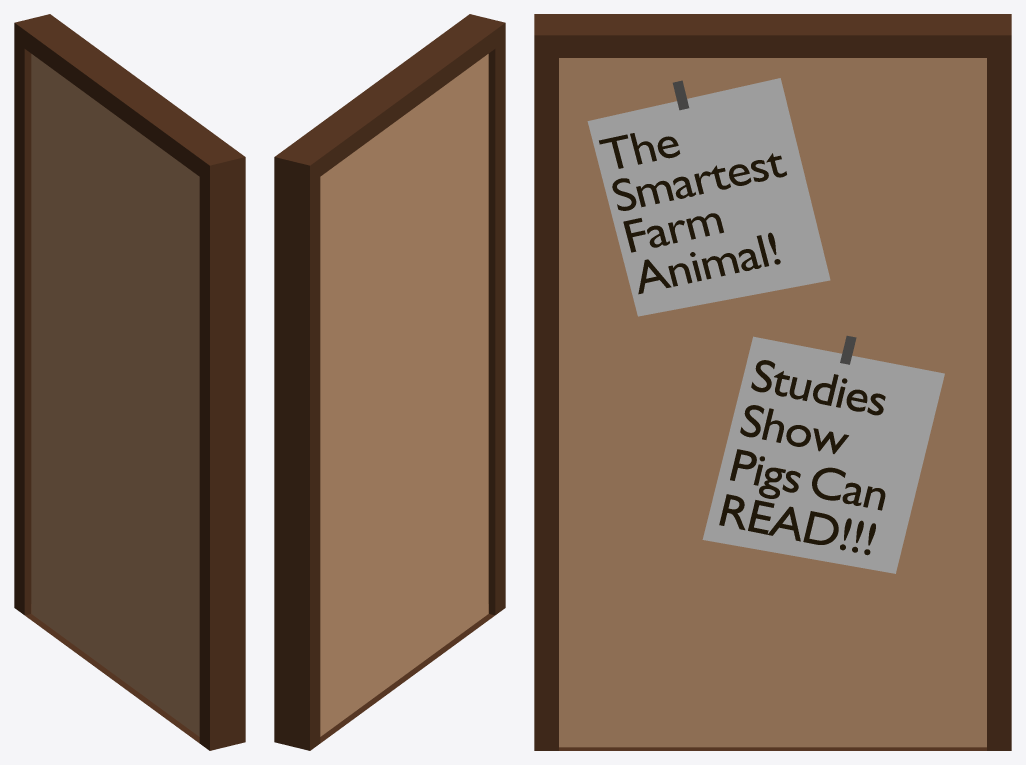
Rendered from PigPenDoor.glb.
3 views of the same model, side by side, from view 1: azimuth 30°, elevation 25°; view 2: azimuth 150°, elevation 25°; view 3: azimuth 270°, elevation 25° (orthographic). The views are drawn at different scales.
Visible parts, largest first — view 1: Door, DoorFrame; view 2: Door, DoorFrame; view 3: Door, DoorFrame, Paper1, Paper2, Message2, Message1.
Part boxes in pixels (bbox=[...]): Door: bbox=[31, 54, 199, 736]; DoorFrame: bbox=[14, 14, 245, 750]; Door: bbox=[320, 54, 488, 736]; DoorFrame: bbox=[274, 14, 505, 750]; Door: bbox=[559, 58, 986, 747]; DoorFrame: bbox=[534, 14, 1011, 750]; Paper1: bbox=[587, 78, 830, 316]; Paper2: bbox=[702, 336, 944, 573]; Message2: bbox=[719, 360, 885, 555]; Message1: bbox=[599, 133, 786, 294].
Size of the model in its own units: 0.8248 by 11.12 by 6.73.
